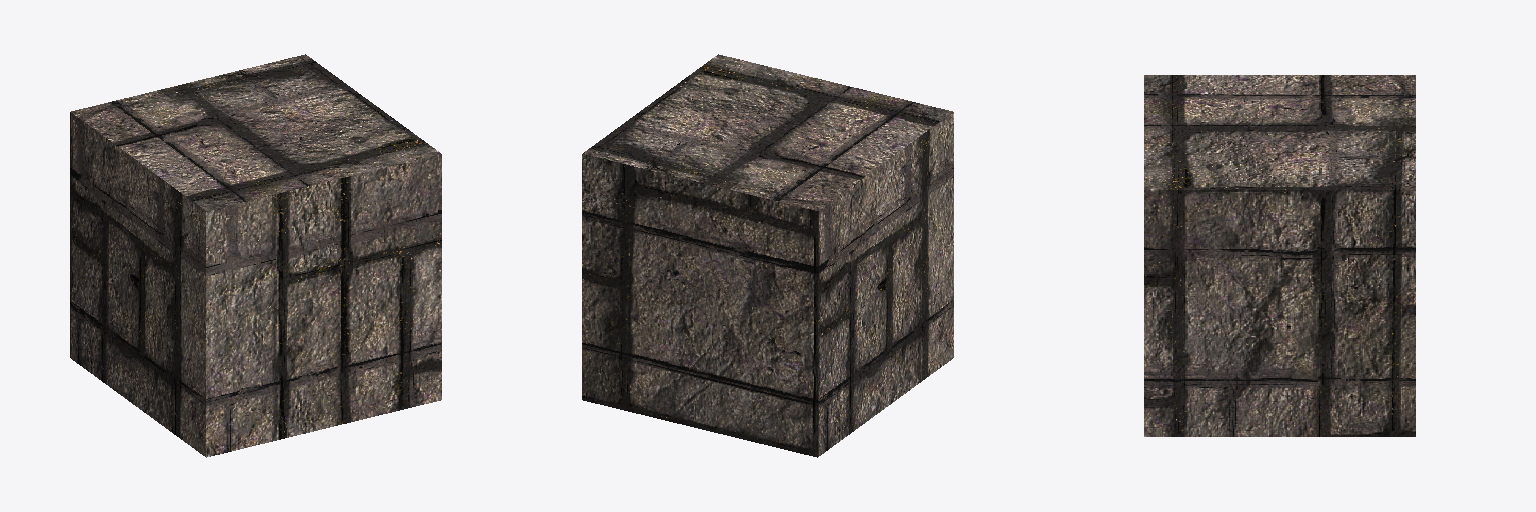
3 renders of one model, left to right at view 1: azimuth 30°, elevation 25°; view 2: azimuth 150°, elevation 25°; view 3: azimuth 270°, elevation 25°, orthographic.
Visible parts, largest first — view 1: Cube; view 2: Cube; view 3: Cube.
Part boxes in pixels (x1,y1,x2,y2): Cube: (70, 54, 441, 457); Cube: (582, 54, 953, 457); Cube: (1144, 75, 1415, 436).
Bounding box in the file's own units: 2 × 2 × 2.
1 materials, 1 textured.